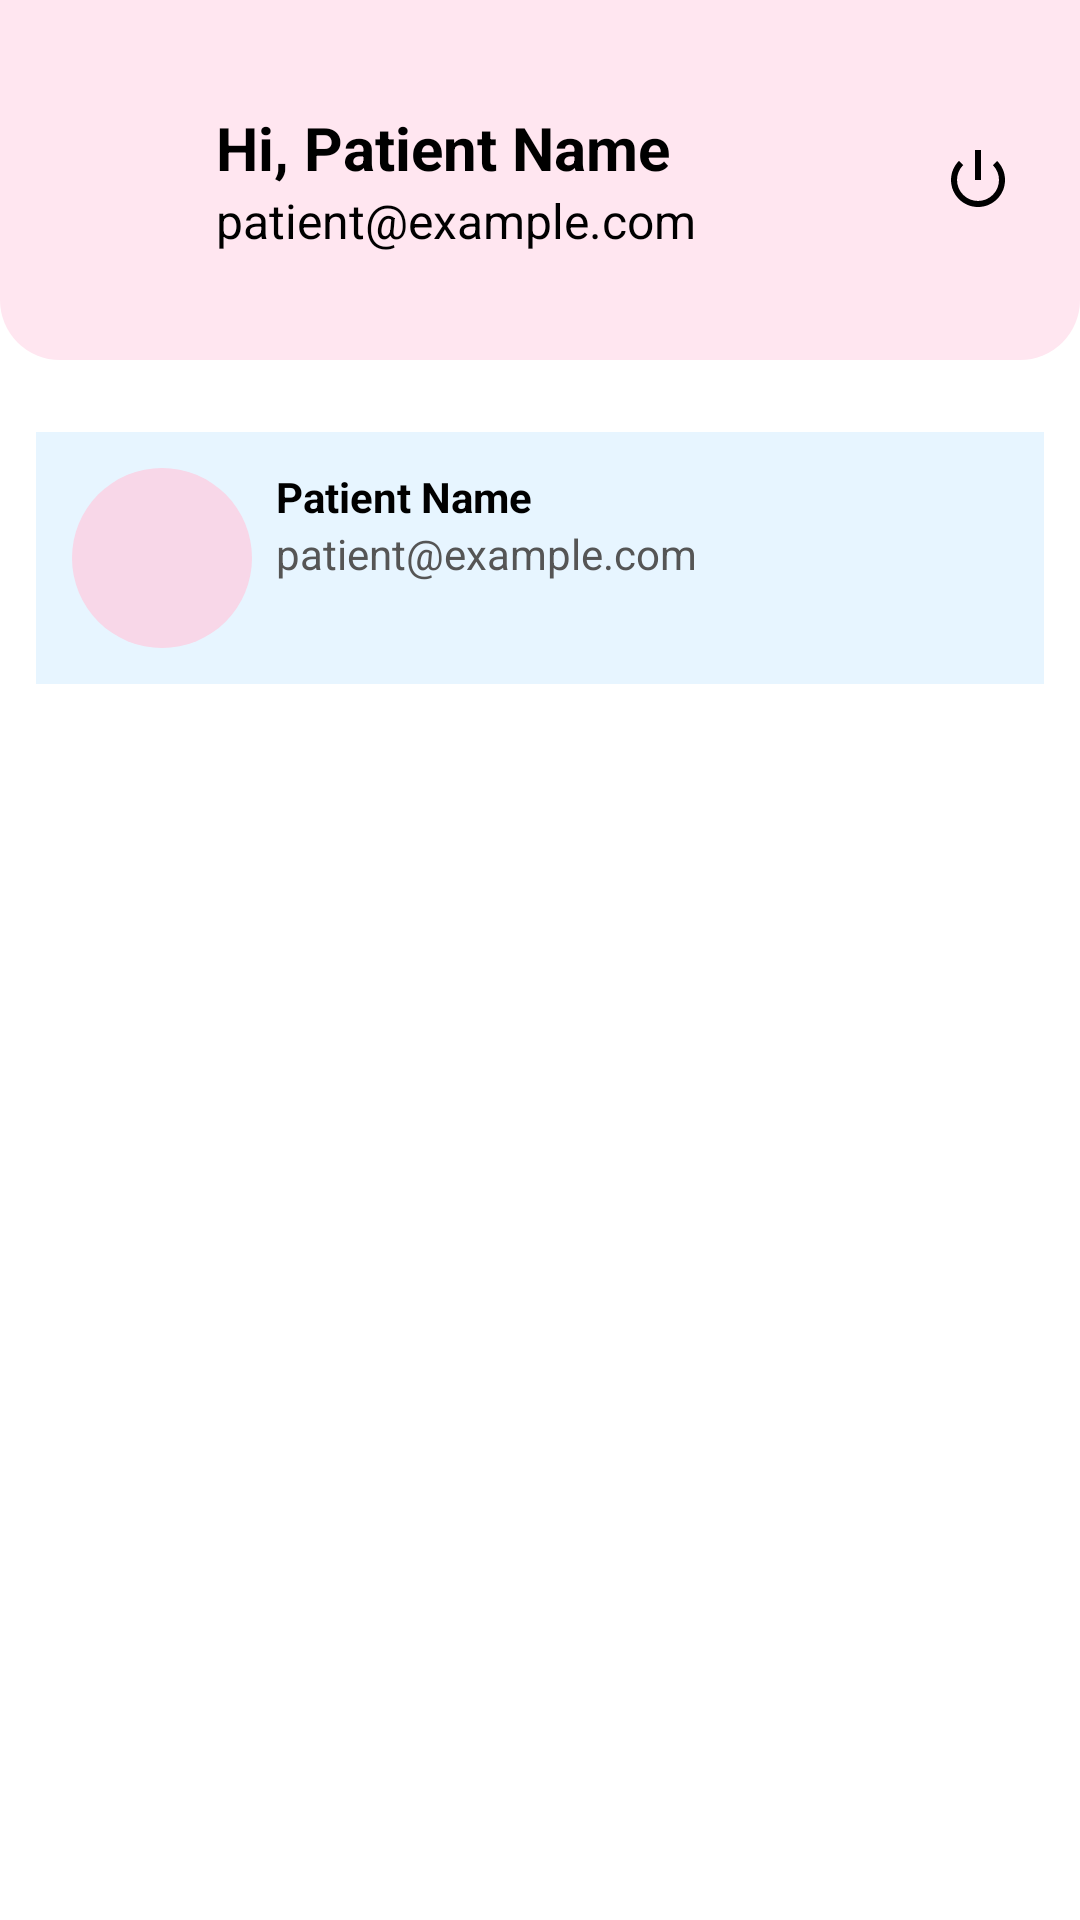

Point at icon controls on the screen. Image size 1080 x 1920, points as [x,y].
lock power off: [978,178]
